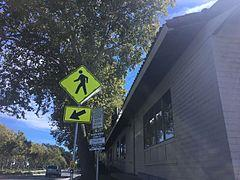Pedestrian Crossing: (57, 61, 105, 129)
